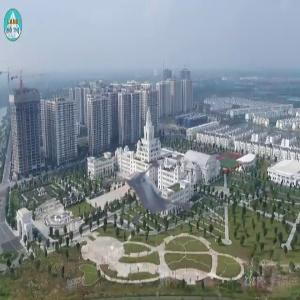drone: (111, 141, 215, 245)
